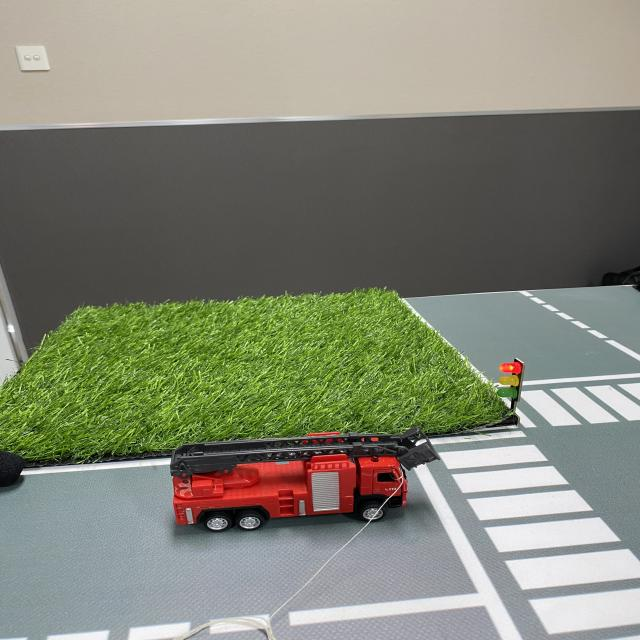Fire Truck: (164, 422, 445, 535)
